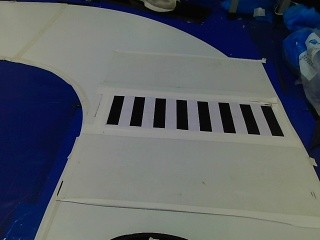crosswalk: (88, 81, 287, 141)
